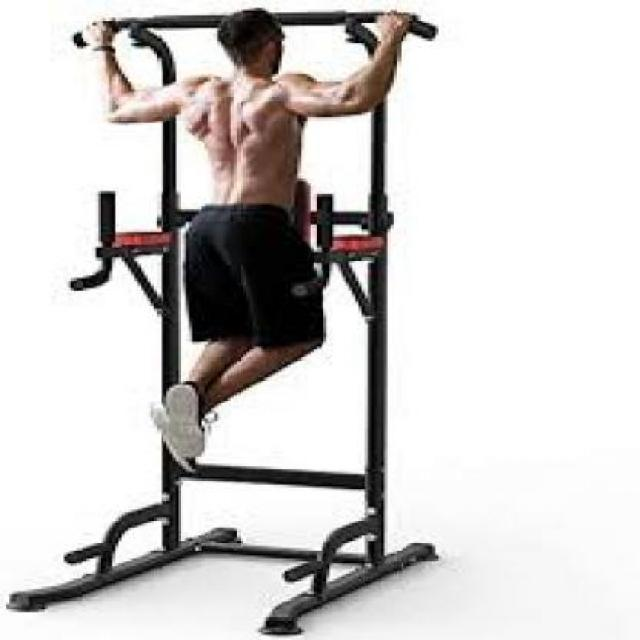chinning dipping: (16, 14, 442, 631)
